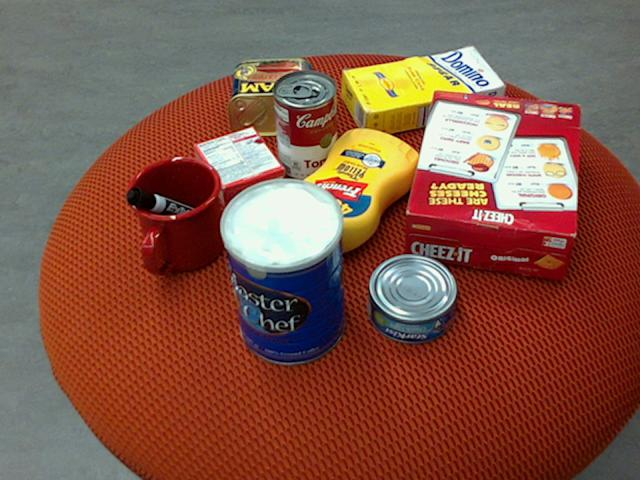cracker_box: (403, 89, 581, 277)
gelatin_box: (192, 125, 283, 207)
large_marker: (124, 187, 217, 232)
master_chef_can: (216, 180, 345, 366)
mug: (124, 157, 225, 275)
mustard_bottle: (281, 128, 420, 267)
potted_meat_can: (228, 58, 317, 136)
sugar_box: (340, 45, 505, 137)
tomato_soup_can: (272, 68, 336, 179)
tuna_fish_can: (368, 253, 458, 344)
